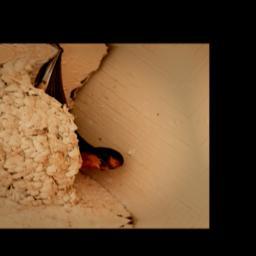Swallow: (18, 48, 128, 175)
